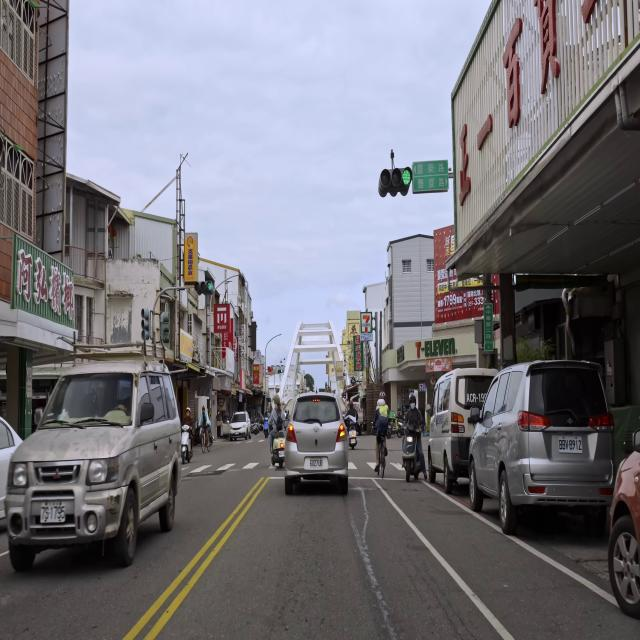green light: (379, 168, 412, 187), (193, 281, 213, 292)
